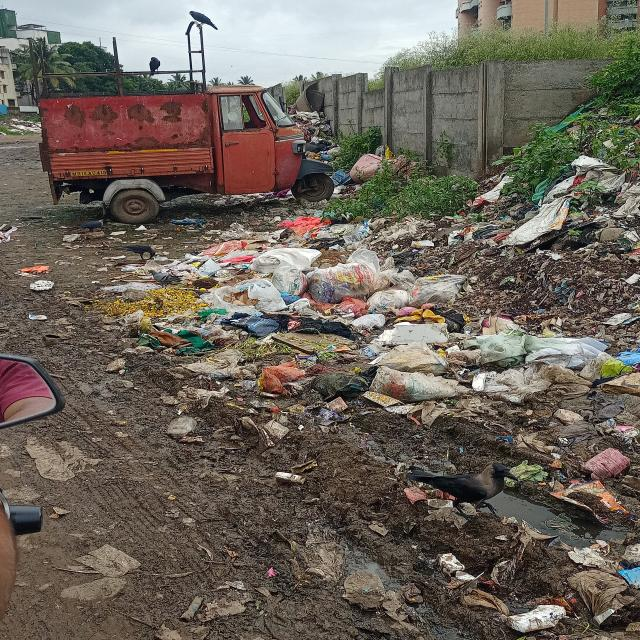garbage: (124, 215, 451, 408), (459, 311, 640, 514), (482, 155, 640, 280)
